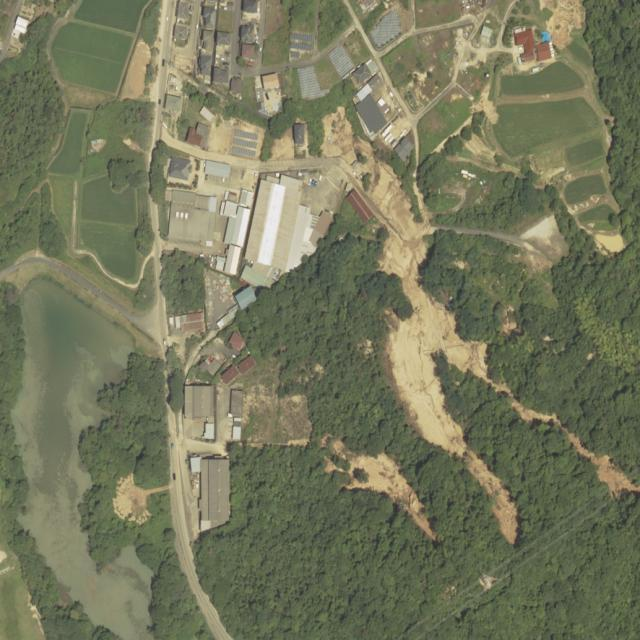landslide: (381, 234, 519, 544), (491, 383, 640, 498), (344, 454, 436, 541), (368, 156, 425, 239)
